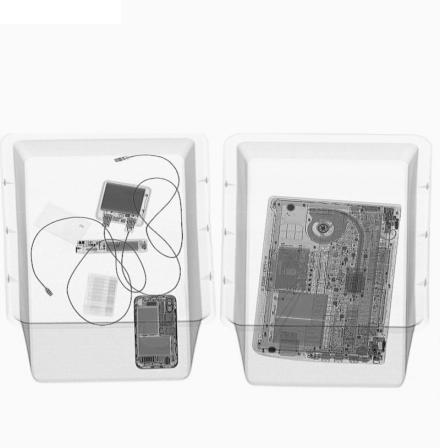Powerbank: (92, 180, 152, 227)
